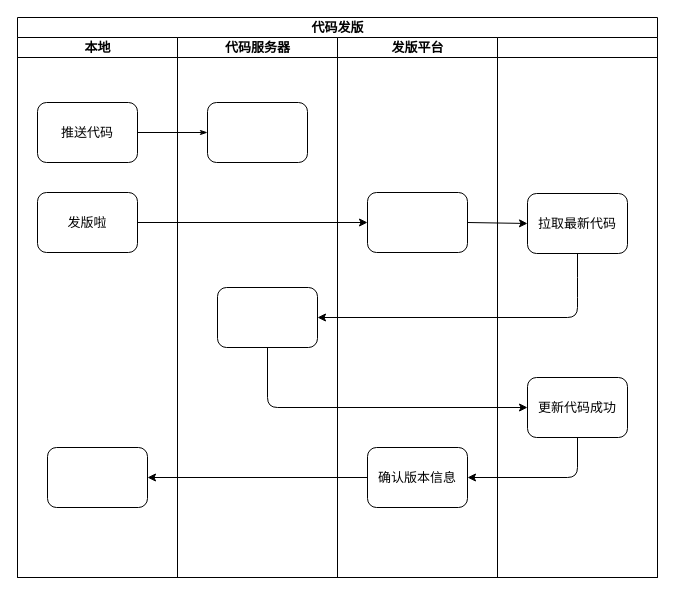
The diagram is 675 pixels wide and 595 high, and some of its shapes have lost their labels. The shapes that lost their labels are listed below. From the top down, each one's box as (x1, y1, x2, y2) in pixels, then its label:
(206, 102, 308, 162): 管理代码
(366, 192, 468, 252): 发布新版本
(216, 286, 318, 348): 最新代码
(496, 36, 658, 578): 线上服务器
(46, 446, 148, 508): 发版成功
